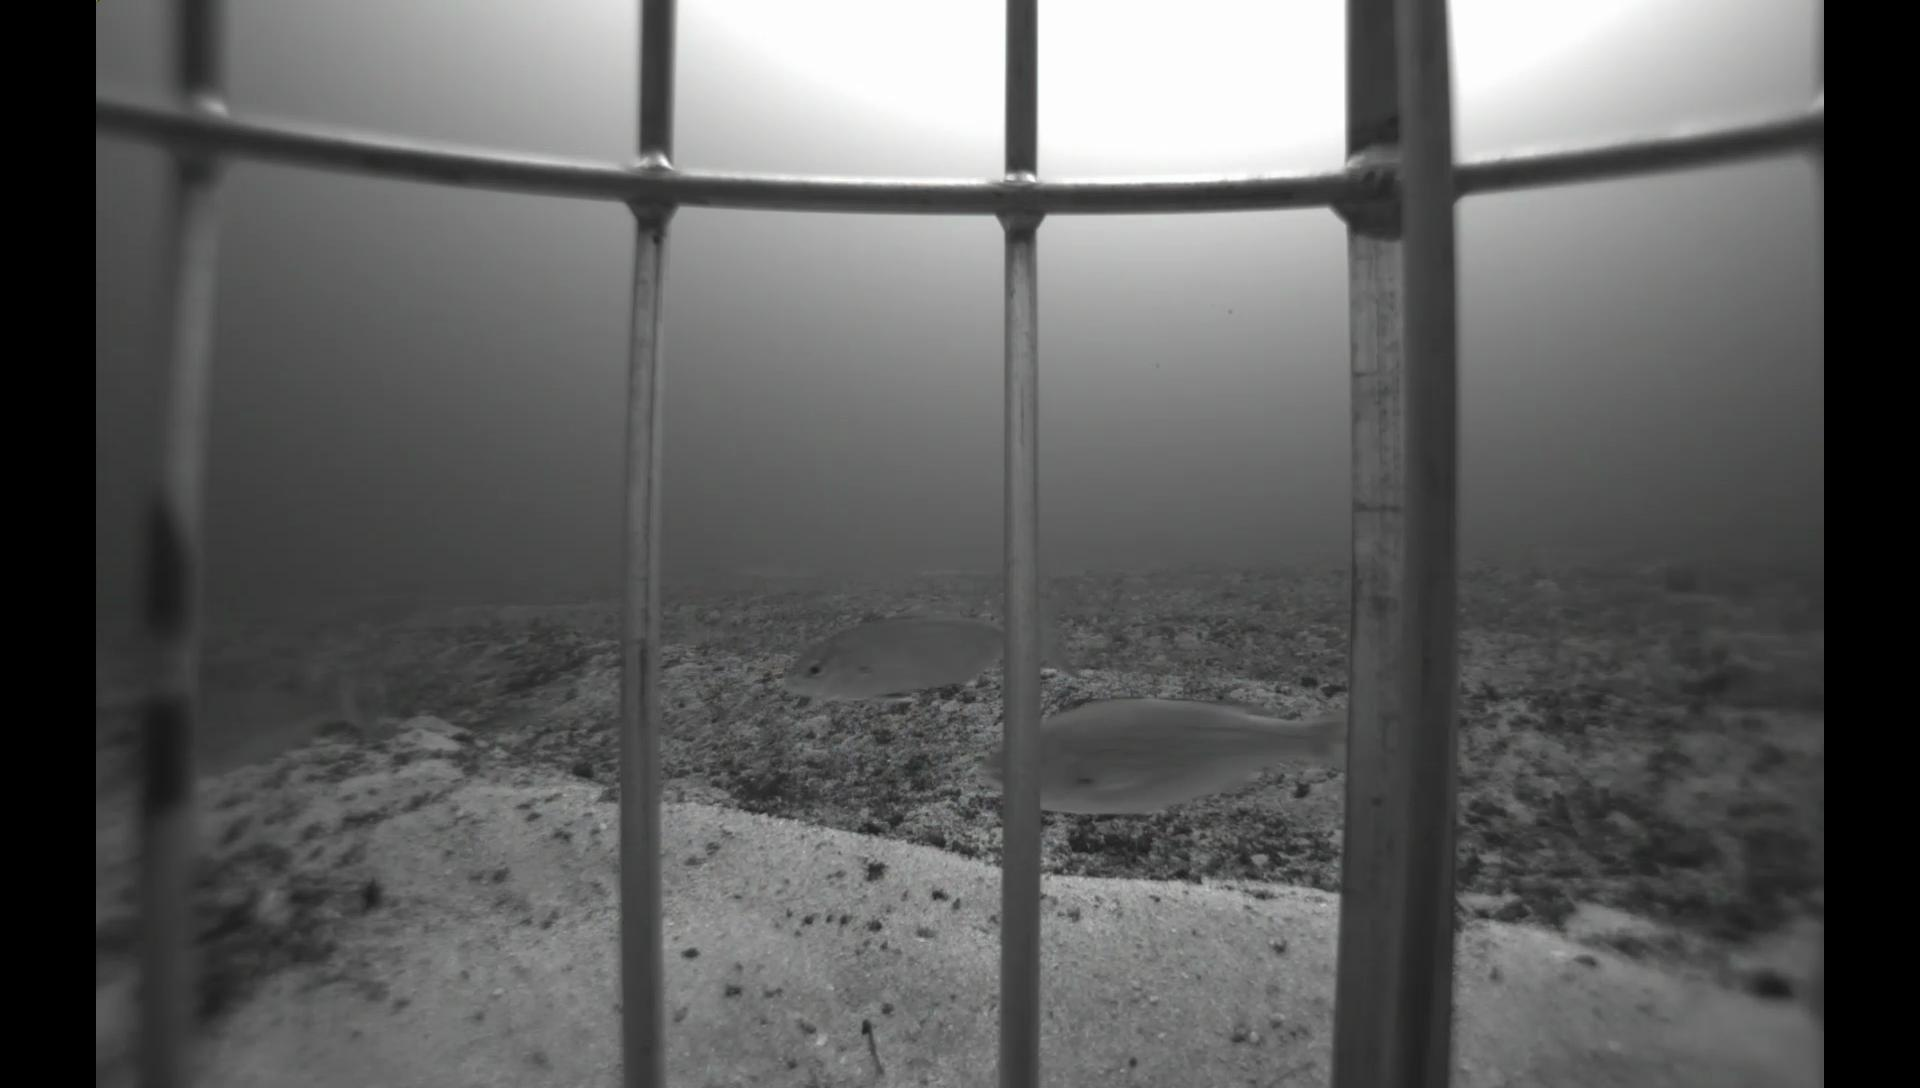CALAMUSPRORIDENS-170210605: (109, 650, 375, 797)
RHOMBOPLITESAURORUBENS-170152001: (960, 687, 1342, 837), (1782, 946, 1822, 1037), (1793, 742, 1822, 779)
SERIOLAFASCIATA-170113103: (767, 580, 1087, 725)
